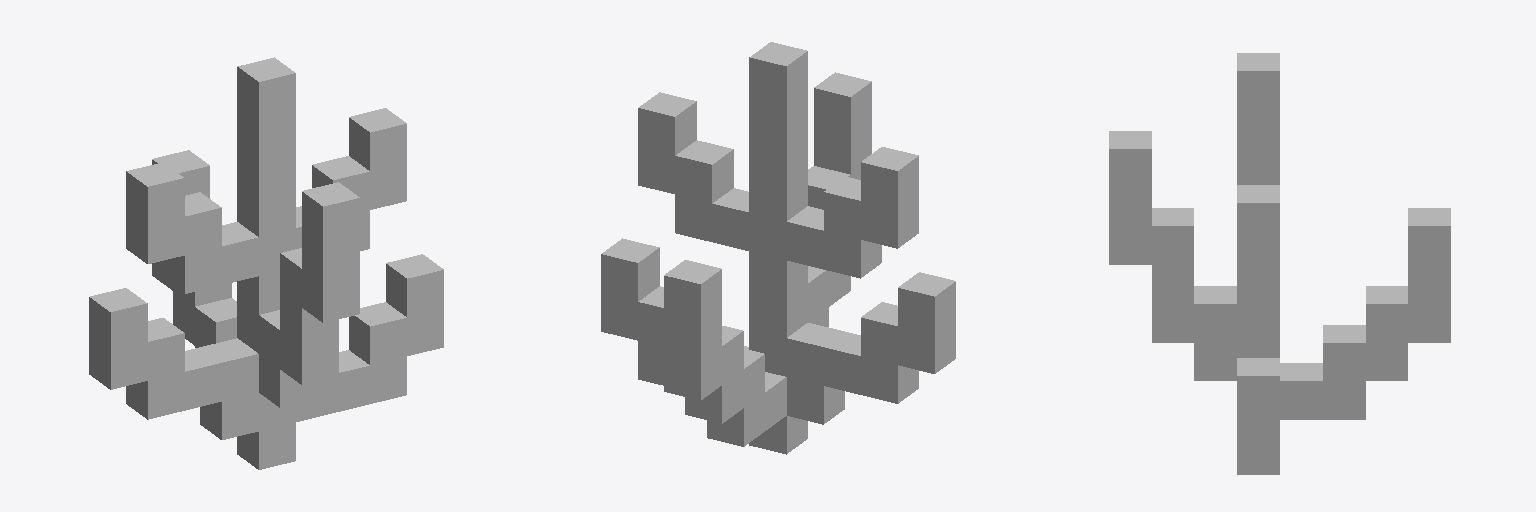
File: Grass6.obj
The picture shows the model from 3 angles: view 1: azimuth 30°, elevation 25°; view 2: azimuth 150°, elevation 25°; view 3: azimuth 270°, elevation 25°; orthographic projection.
Visible parts, largest first — view 1: object 1; view 2: object 1; view 3: object 1.
Boxes of the visible parts, x1=… form: object 1: x1=89, y1=57, x2=443, y2=469; object 1: x1=601, y1=42, x2=955, y2=454; object 1: x1=1109, y1=53, x2=1450, y2=474.
Size of the model in its own units: 0.9 by 1 by 0.8.